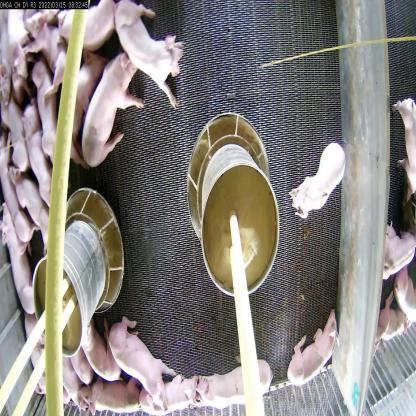Pig: (108, 0, 185, 109), (77, 49, 134, 162), (283, 313, 339, 393), (289, 144, 346, 221), (105, 327, 165, 397), (49, 0, 121, 57), (28, 46, 66, 144), (19, 102, 55, 204), (200, 364, 273, 408), (19, 165, 51, 262), (3, 219, 32, 320), (73, 323, 115, 383), (140, 377, 196, 415)
